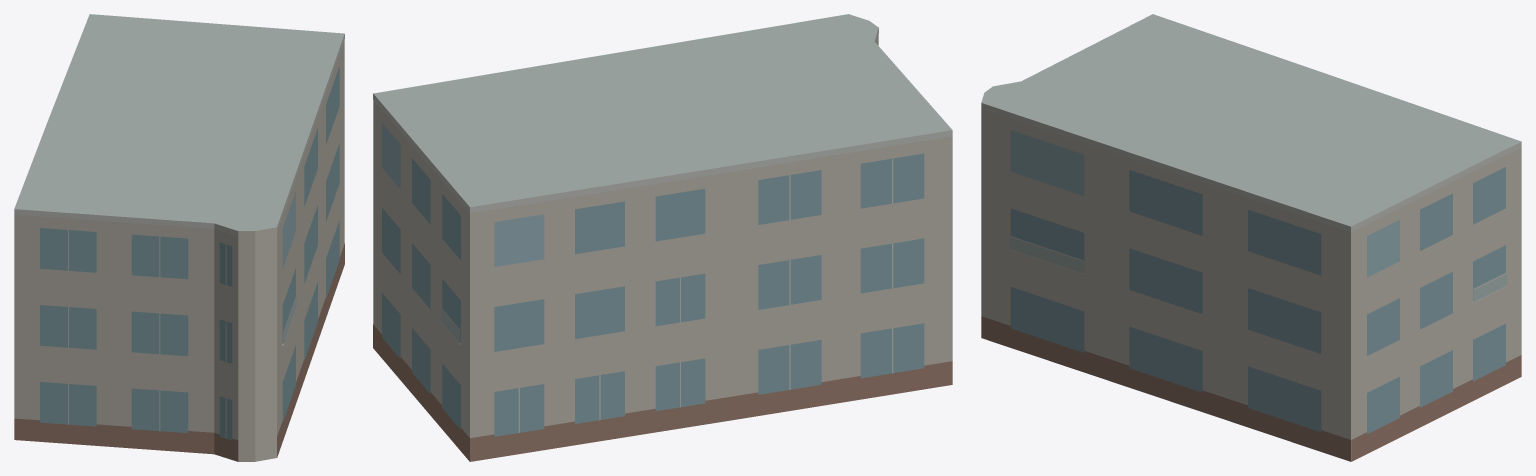
Rendered from survey-upis-32919818.glb.
3 views of the same model, side by side, from view 1: azimuth 30°, elevation 25°; view 2: azimuth 150°, elevation 25°; view 3: azimuth 270°, elevation 25° (orthographic). The views are drawn at different scales.
Parts seen in each view (by area): view 1: survey-upis-32919818.tmp; view 2: survey-upis-32919818.tmp; view 3: survey-upis-32919818.tmp.
Boxes of the visible parts, left/top/right/bottom form: survey-upis-32919818.tmp: left=14, top=14, right=344, bottom=461; survey-upis-32919818.tmp: left=373, top=14, right=952, bottom=461; survey-upis-32919818.tmp: left=981, top=14, right=1521, bottom=461.
Size of the model in its own units: 19.8 by 10.2 by 21.25.
